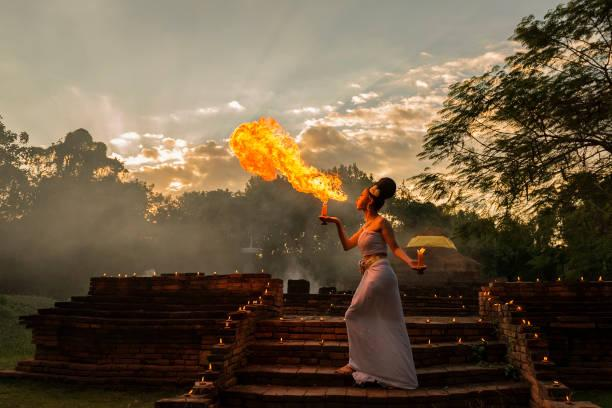Fire: (231, 118, 339, 210)
